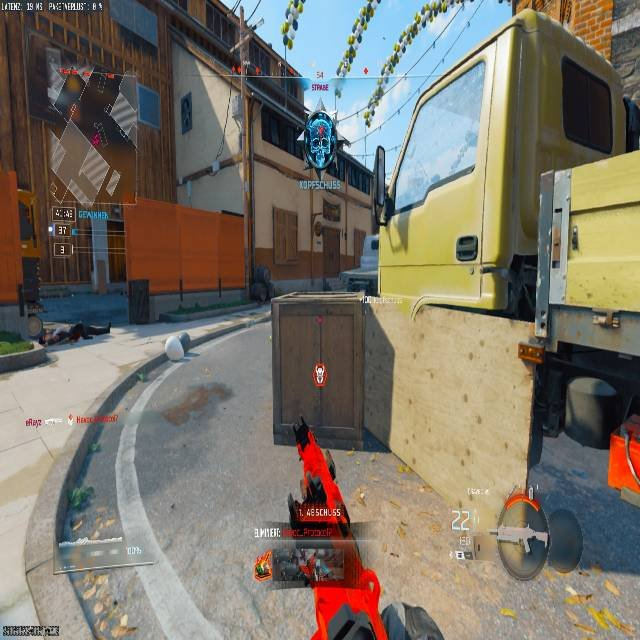player: (47, 51, 137, 152), (302, 109, 338, 176)
